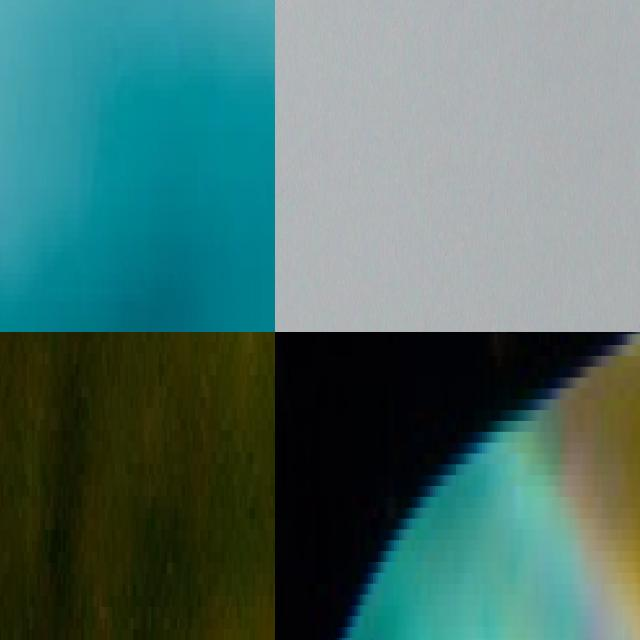fish: (275, 332, 640, 640), (0, 0, 275, 332)
